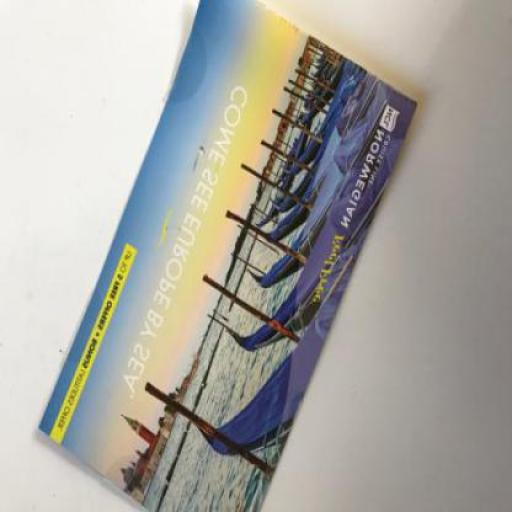paper: (34, 1, 416, 511)
